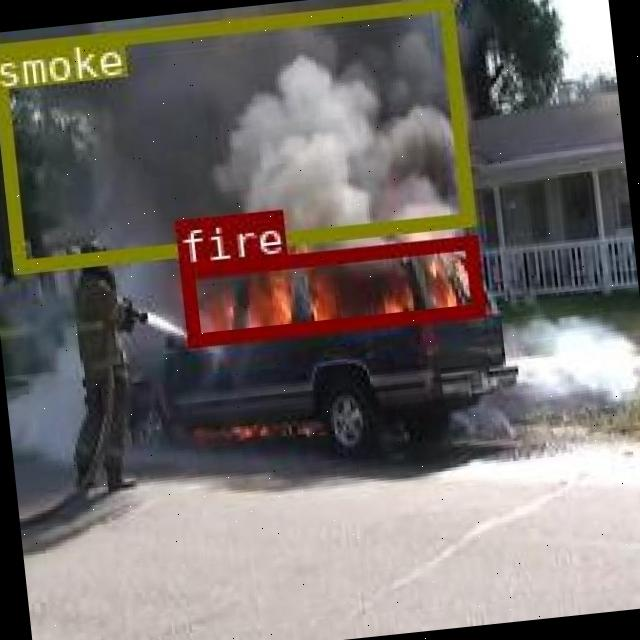fire: (178, 234, 482, 344)
smoke: (0, 0, 473, 271)
